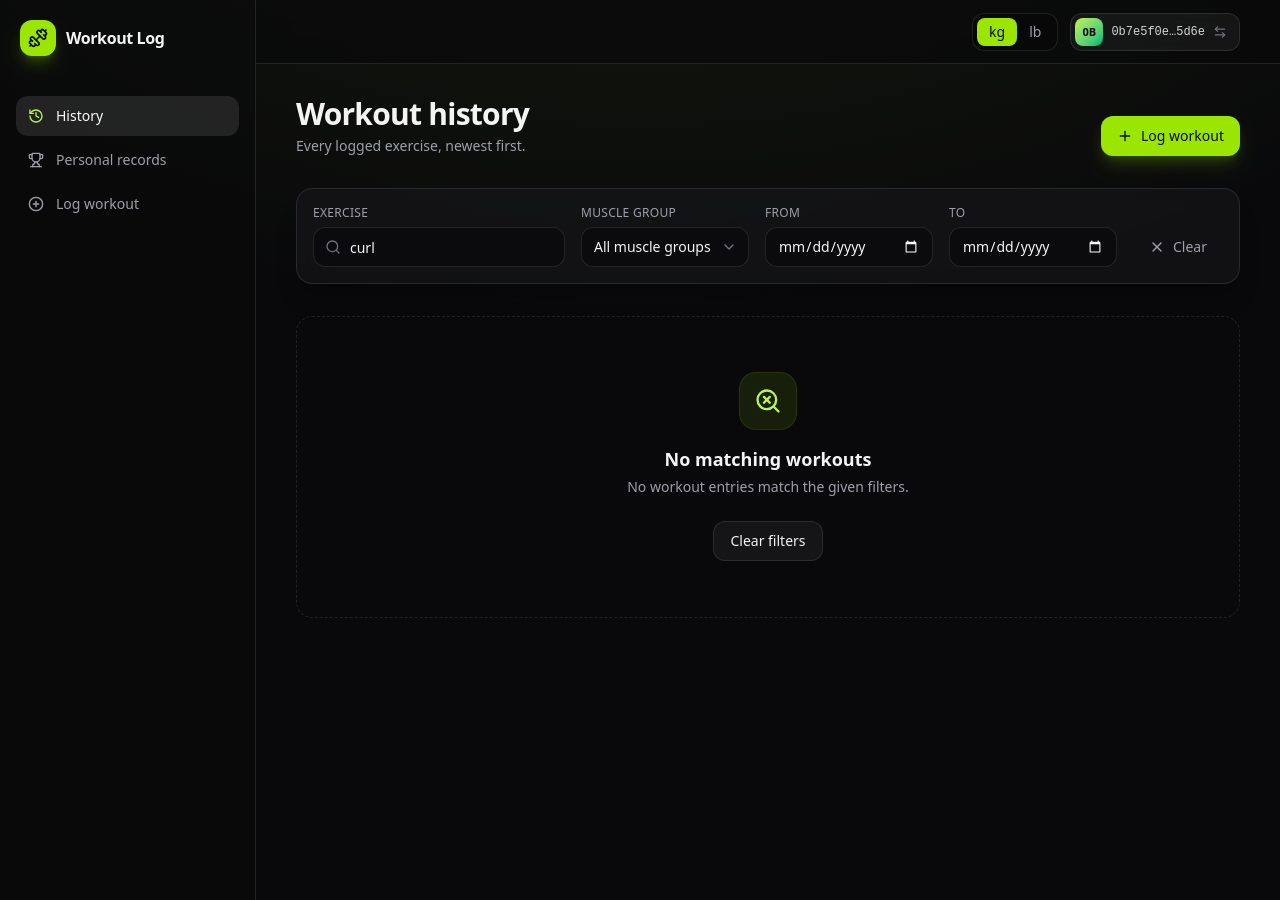
Test: HistoryPage › shows the API message and a way out when filters match nothing
Expected: the text "No workout entries match the given filters." is shown, left=627, top=477, right=909, bottom=497
What coordinates should you click on to do the following:
click the button "Clear filters"
I would click on:
 (768, 541)
Its box is left=713, top=521, right=822, bottom=561.
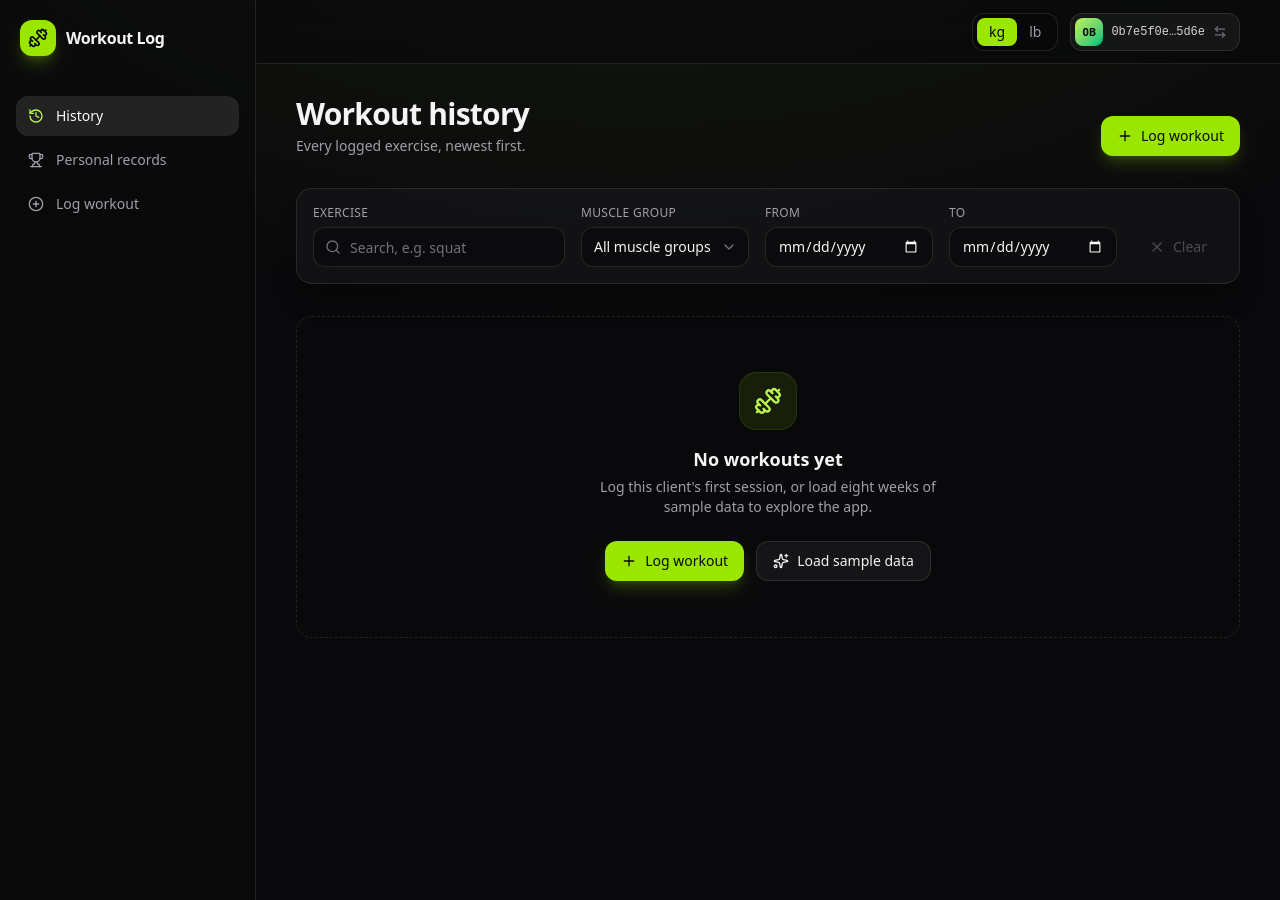
Result: the heading "No workouts yet" is shown at left=693, top=445, right=843, bottom=473
Result: the search field labelled "Exercise" is empty at left=313, top=227, right=565, bottom=267
